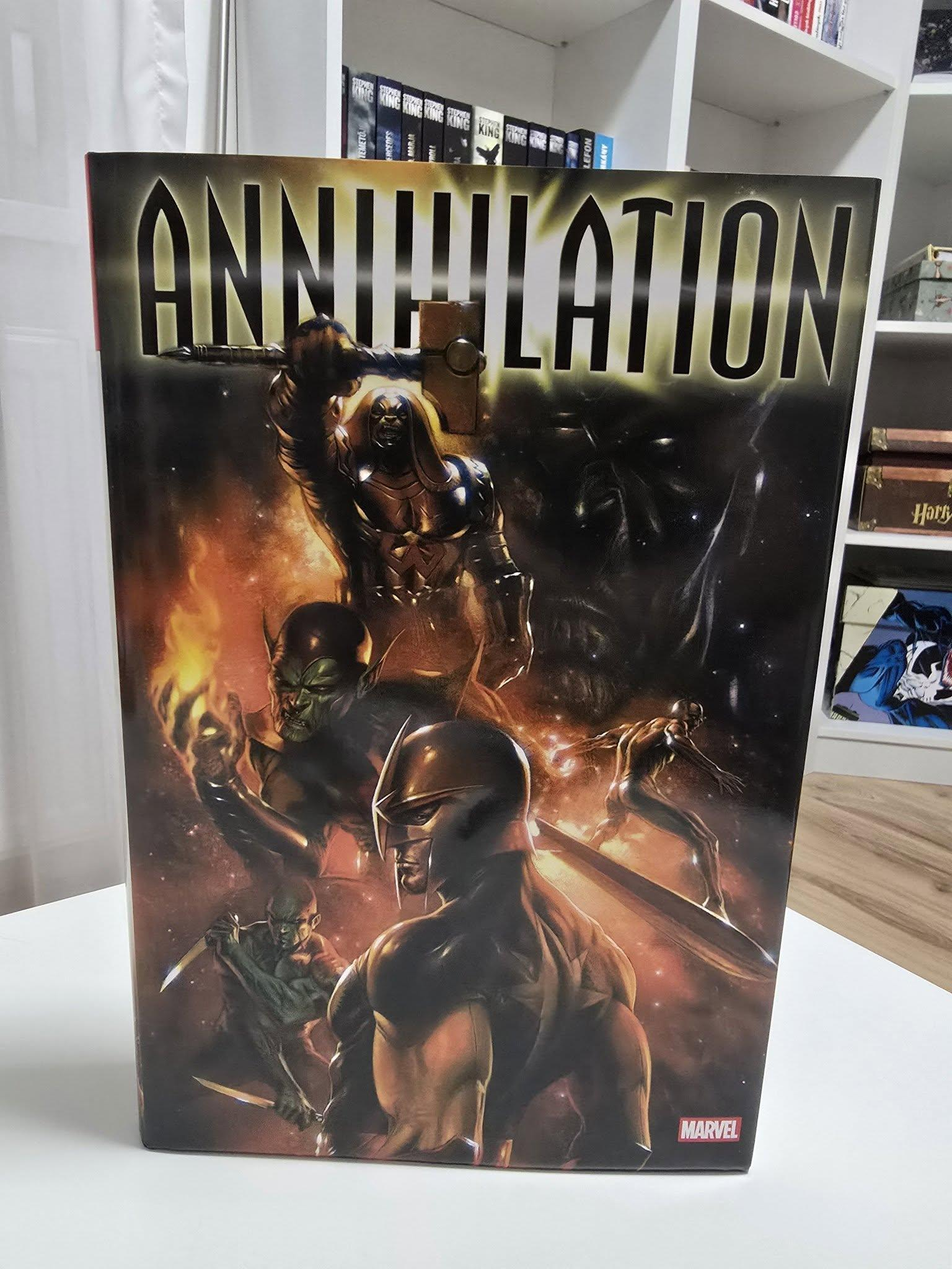comic: (38, 139, 877, 1182)
